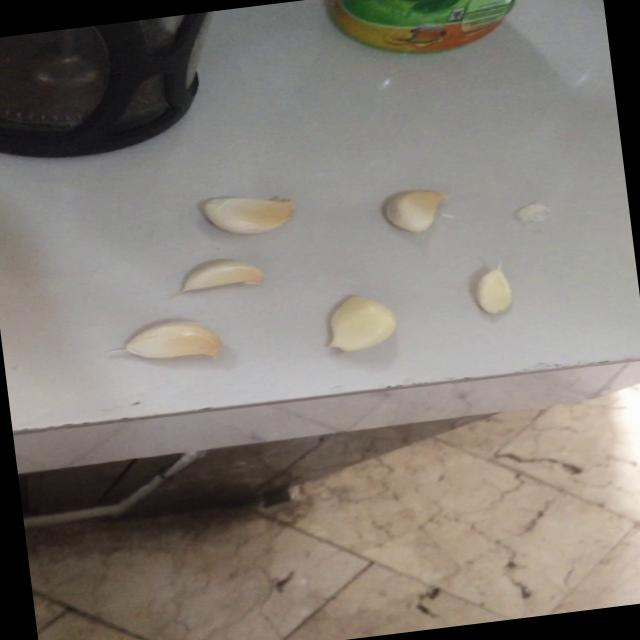bawang: (115, 310, 229, 371), (194, 185, 302, 243), (320, 288, 405, 355), (174, 252, 274, 298), (376, 183, 454, 235), (464, 262, 520, 319)
